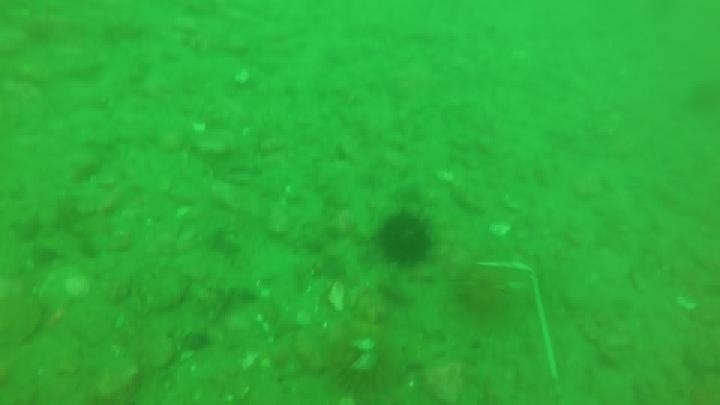echinus: (319, 322, 406, 403), (374, 209, 436, 270), (685, 77, 720, 119)
scallop: (32, 264, 93, 321), (1, 287, 46, 349)
